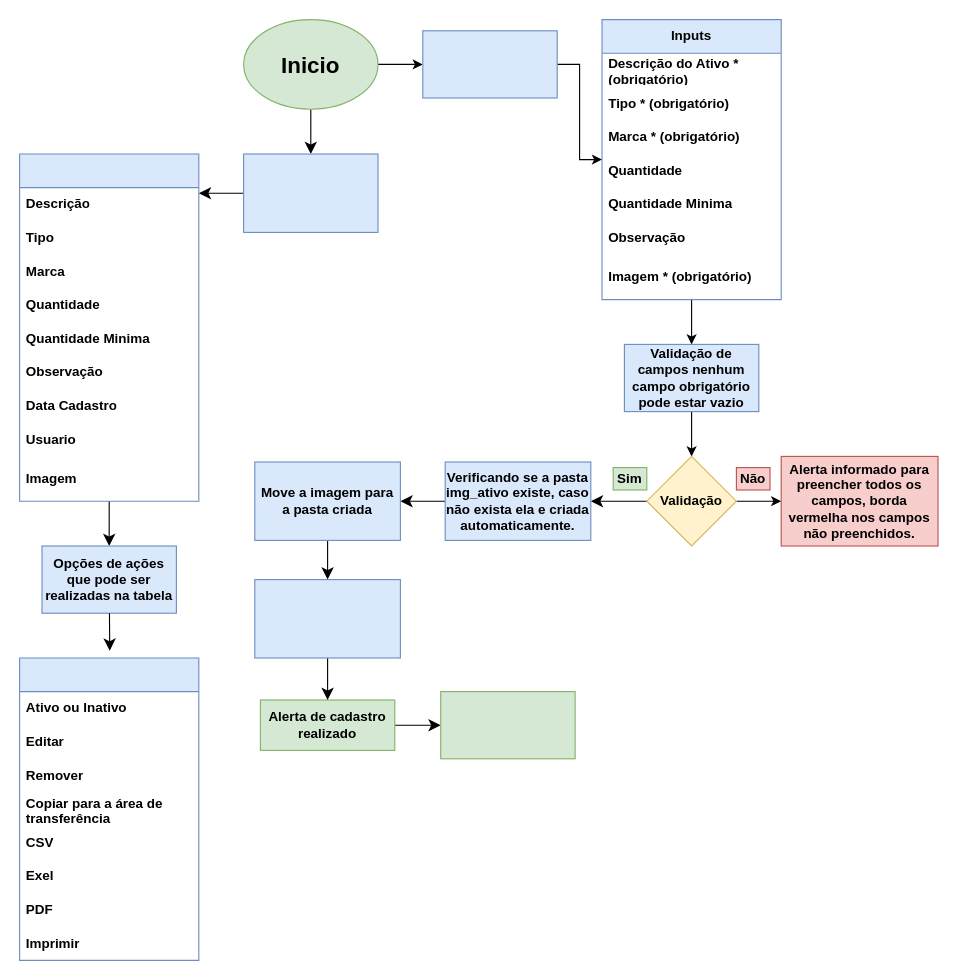
Some shapes in this 958 by 980 pixel diagram are drawn without their labels. Each missing label, with the box of its shape:
Ações: (18, 657, 199, 960)
Cadastrar ativo (abrir modal): (422, 30, 557, 98)
Insert das informações para o banco de dados: (254, 578, 400, 658)
Tabela de lista de ativos: (18, 153, 199, 501)
Tela de listagem de ativos (mostrando todos os ativos anteriormente cadastrados): (242, 153, 378, 232)
Tela recarregada: (440, 690, 575, 759)
